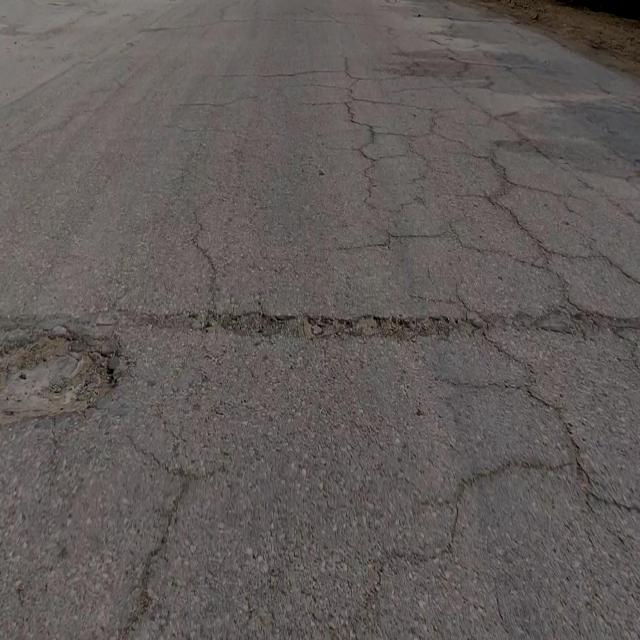Potholes: (0, 325, 120, 428)
